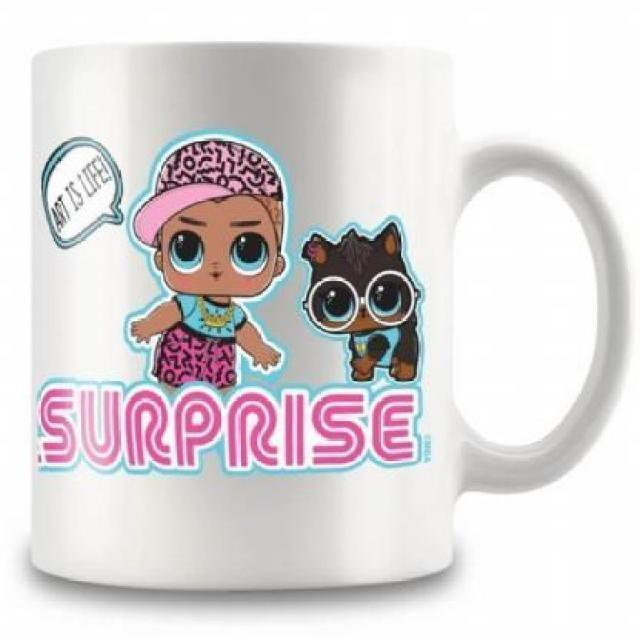taza: (27, 39, 634, 588)
